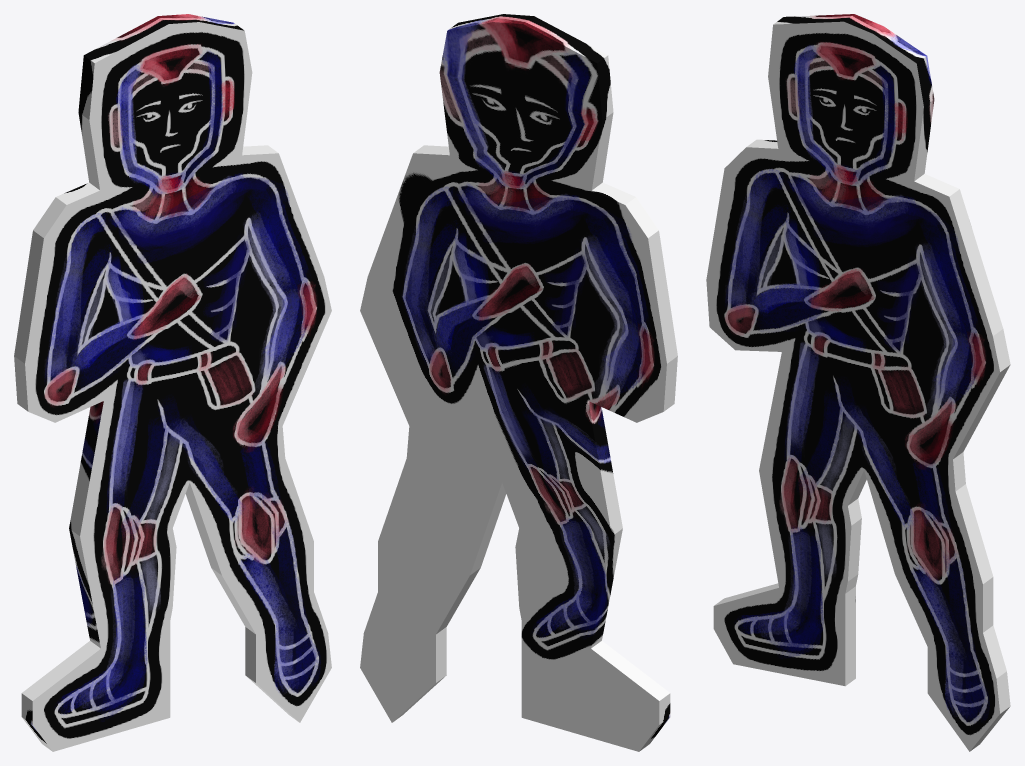
Rendered from new_astro_R.dae.
3 views of the same model, side by side, from view 1: azimuth 30°, elevation 25°; view 2: azimuth 150°, elevation 25°; view 3: azimuth 330°, elevation 25° (orthographic). The views are drawn at different scales.
Parts seen in each view (by area): view 1: MeshBody7; view 2: MeshBody7; view 3: MeshBody7.
Boxes of the visible parts, left/top/right/bottom form: MeshBody7: left=14, top=14, right=331, bottom=751; MeshBody7: left=360, top=14, right=677, bottom=751; MeshBody7: left=706, top=14, right=1010, bottom=751.
Size of the model in its own units: 0.81 by 0.05 by 1.84.
Materials: 1 (1 with a texture image).
